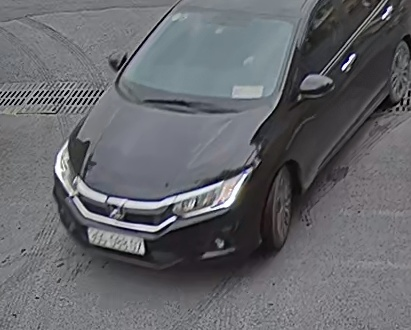vehicle plate: (89, 222, 149, 258)
